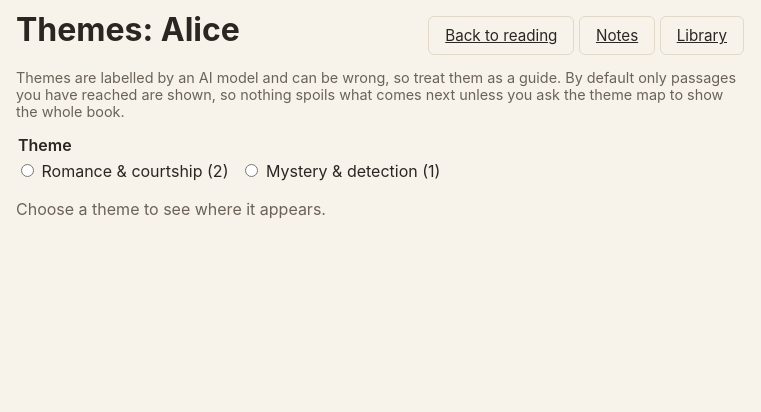
Test case: ThemesPage › a_slow_answer_for_an_earlier_theme_never_overwrites_the_current_one
This screenshot has width=761, height=412.
Click the radio button labelled "Romance & courtship (2)". click: x=28, y=170
box: x1=21 y1=164 x2=34 y2=177
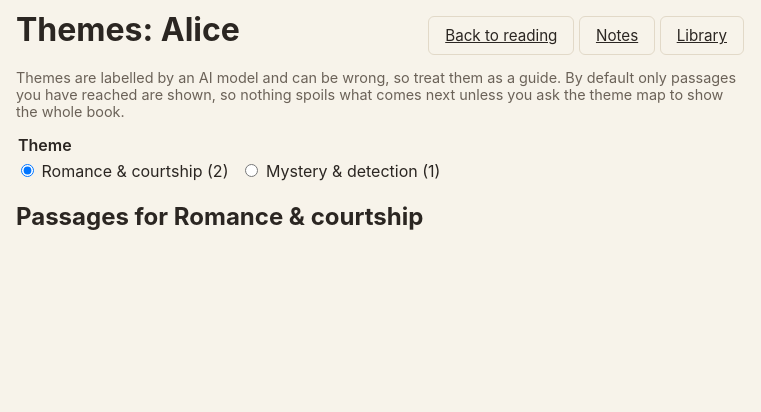
Click the radio button labelled "Mystery & detection (1)". click: x=252, y=170
box: x1=246 y1=164 x2=258 y2=177
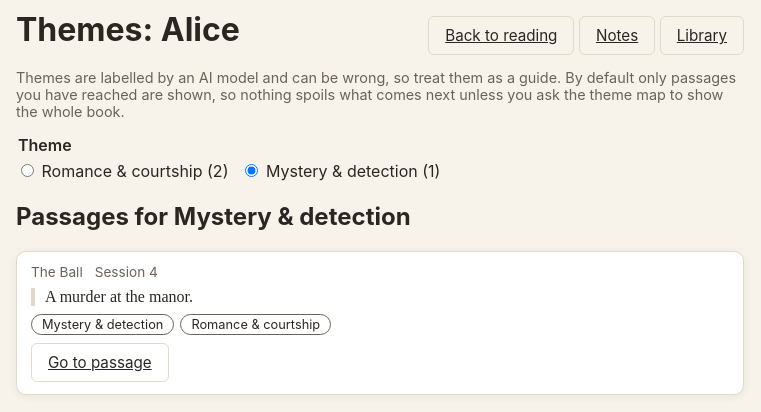
Expected: the text "A murder at the manor." is shown, x1=31 y1=288 x2=729 y2=306
